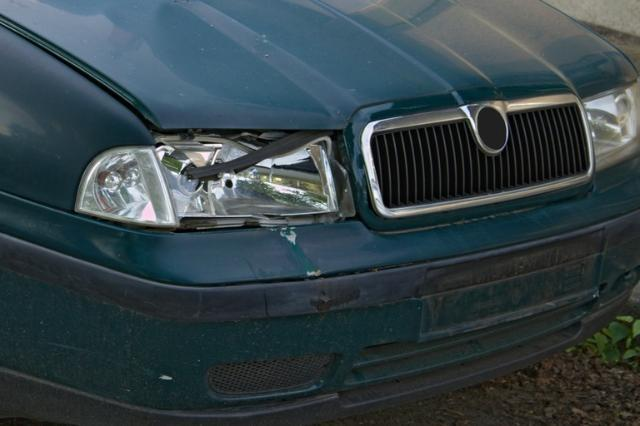Light: (129, 132, 336, 212)
